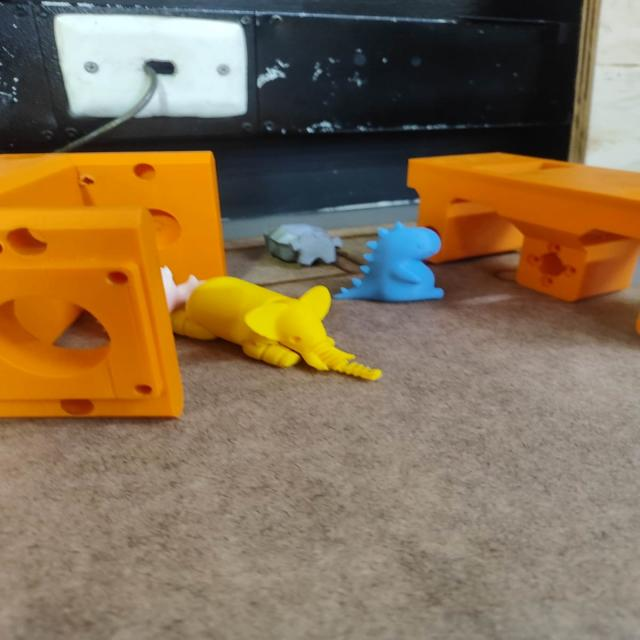DINO: (339, 210, 446, 304)
